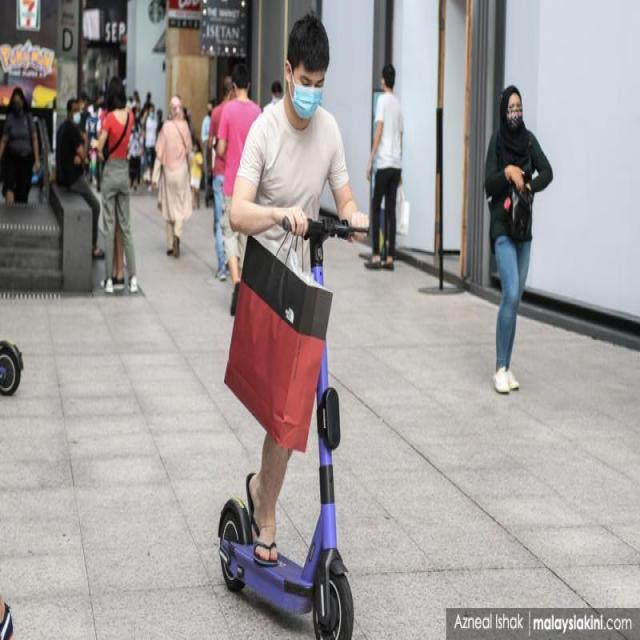non-helmet: (192, 17, 354, 632)
